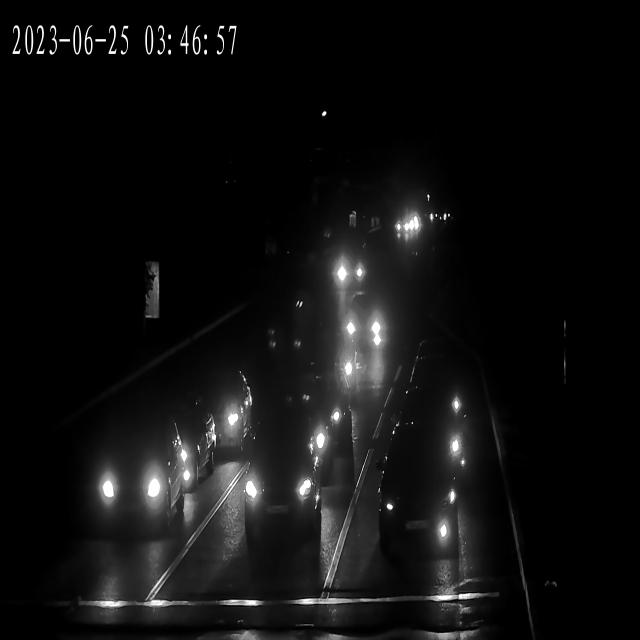Car: (80, 420, 192, 541), (163, 372, 254, 459), (243, 448, 325, 543), (379, 472, 464, 562), (395, 402, 468, 490), (273, 387, 351, 469), (336, 301, 390, 353), (332, 347, 388, 396), (263, 307, 309, 359), (329, 249, 370, 291), (405, 200, 423, 230), (394, 214, 414, 236)
